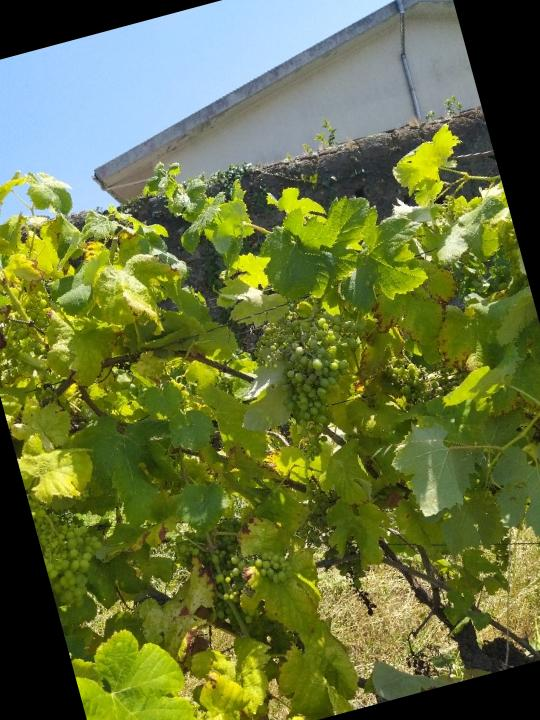grape: (264, 314, 371, 466), (27, 480, 118, 615)
